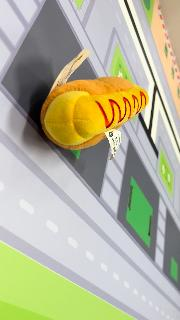hotdog: (40, 76, 150, 152)
